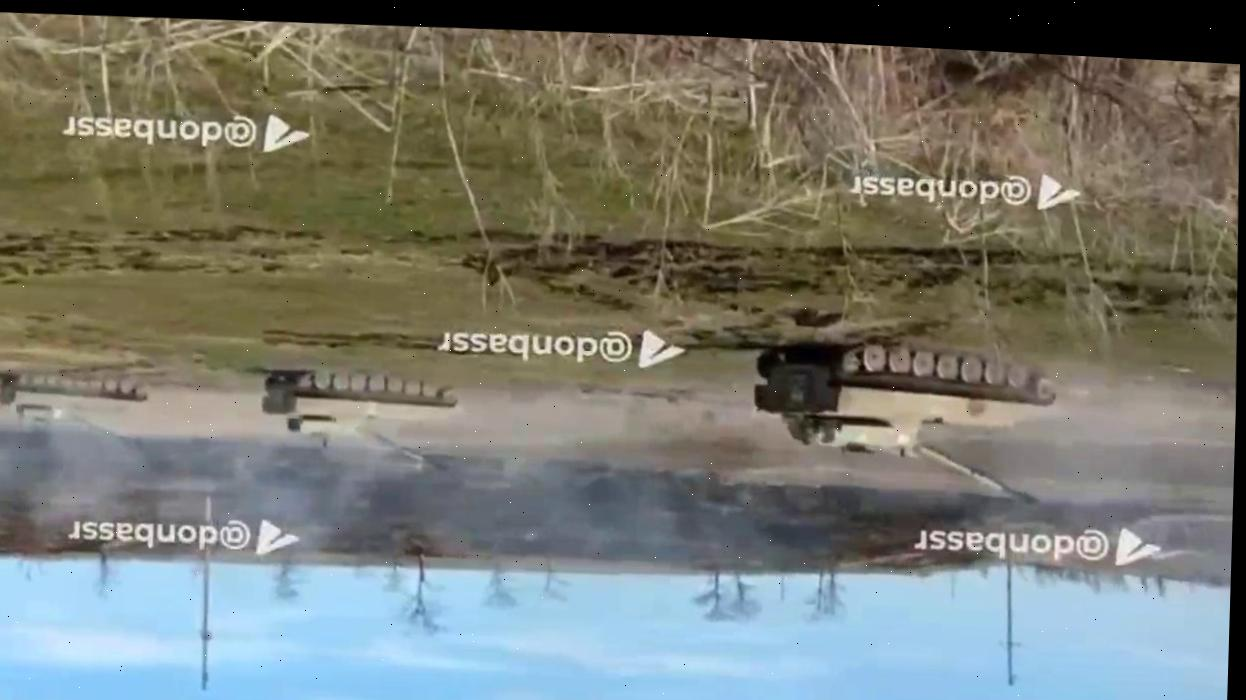sau: (748, 328, 1063, 512), (257, 363, 468, 477), (0, 364, 161, 453)
